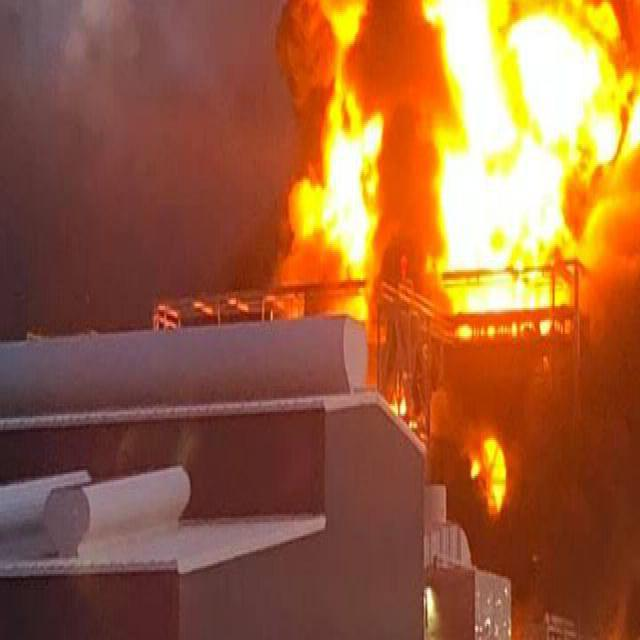fire: (415, 2, 639, 344), (279, 2, 391, 316), (468, 422, 516, 526)
